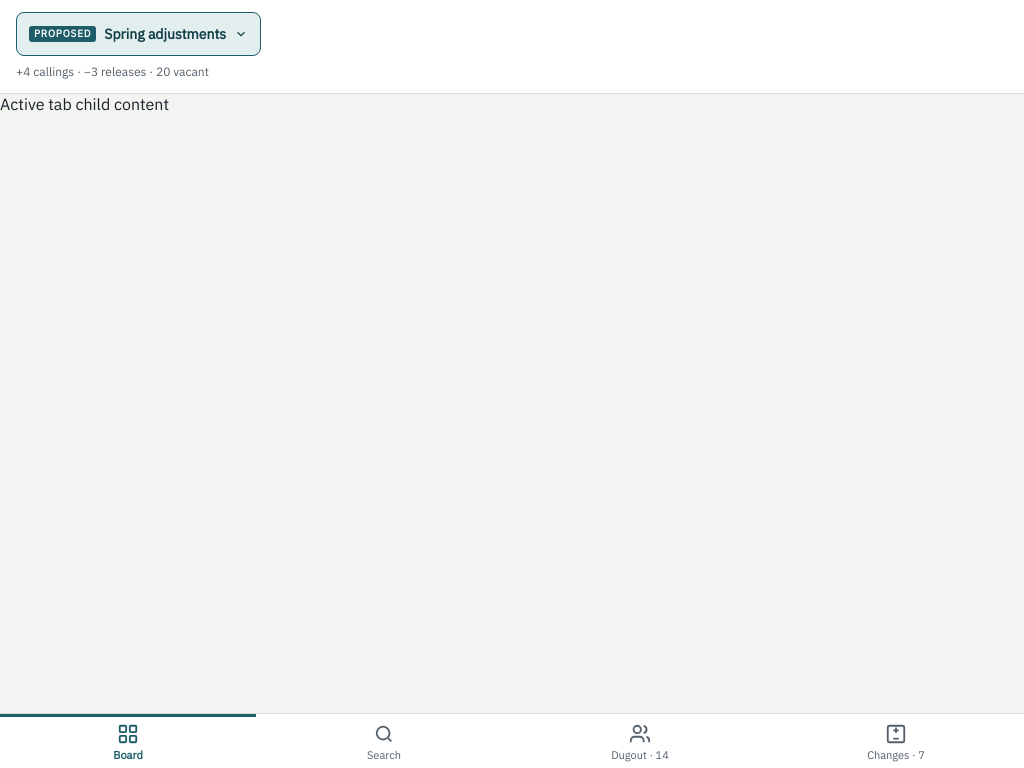
Test case: PhoneShell › switcher lists Current and proposals and marks the viewed board
Click the button with aria-label "Switch board, current board Spring adjustments".
click(139, 34)  # box [16, 12, 261, 56]
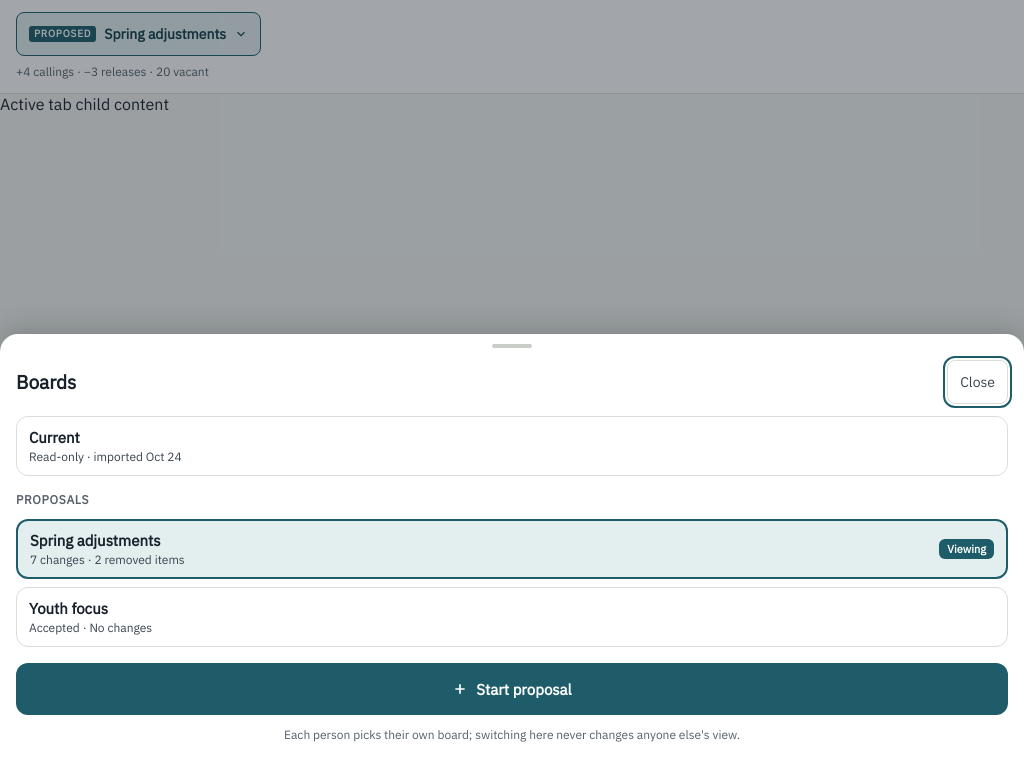
Result: the dialog "Boards" is shown at [0, 334, 1023, 767]
Result: the text "Current" is shown at [29, 428, 80, 447]
Result: the text "Read-only · imported Oct 24" is shown at [29, 449, 182, 464]
